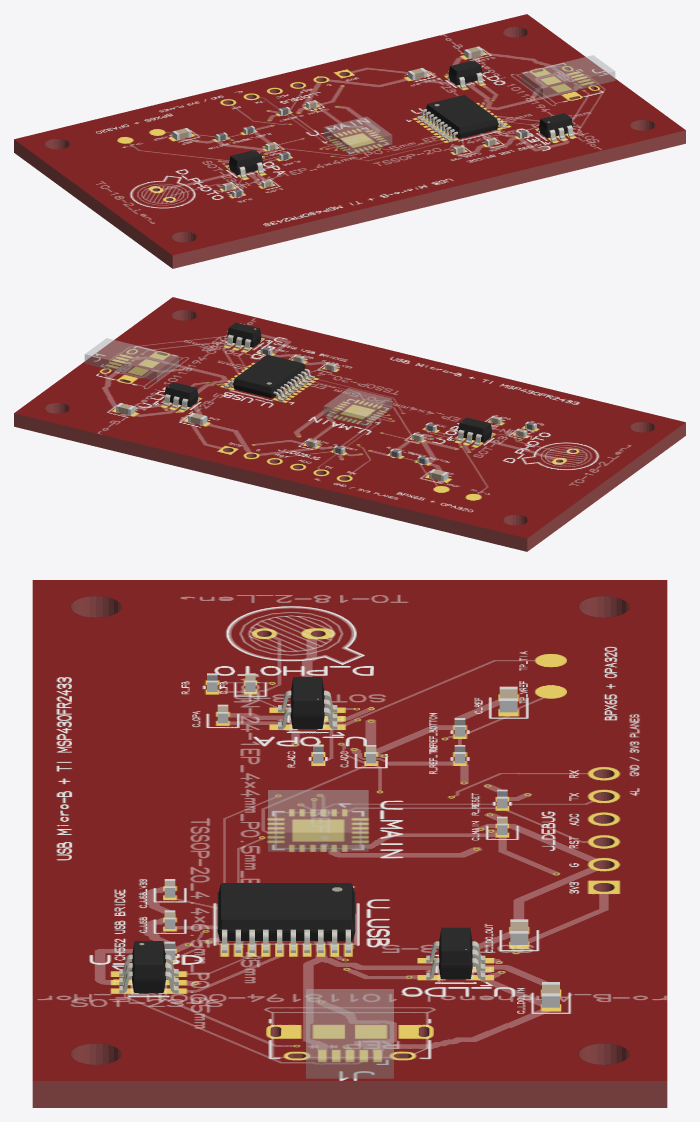
3 renders of one model, top to bottom at view 1: azimuth 30°, elevation 25°; view 2: azimuth 150°, elevation 25°; view 3: azimuth 270°, elevation 25°, orthographic. The views are drawn at different scales.
Parts seen in each view (by area): view 1: Box0, J1, U_USB, U_MAIN, U_ESD, U_LDO, U_OPA; view 2: Box0, J1, U_USB, U_MAIN, U_ESD, U_LDO, U_OPA; view 3: Box0, U_USB, J1, U_MAIN, U_ESD, U_LDO, U_OPA.
Boxes of the visible parts, x1,y1,x2,y2 form: Box0: [14, 14, 685, 268]; J1: [521, 55, 615, 98]; U_USB: [416, 95, 507, 141]; U_MAIN: [323, 116, 392, 154]; U_ESD: [537, 113, 574, 141]; U_LDO: [447, 60, 483, 88]; U_OPA: [227, 150, 264, 178]; Box0: [14, 297, 685, 551]; J1: [84, 338, 178, 381]; U_USB: [224, 354, 314, 401]; U_MAIN: [323, 388, 392, 426]; U_ESD: [226, 322, 262, 350]; U_LDO: [163, 382, 199, 410]; U_OPA: [456, 417, 493, 445]; Box0: [32, 580, 667, 1107]; U_USB: [217, 883, 355, 952]; J1: [306, 989, 393, 1078]; U_MAIN: [268, 790, 368, 851]; U_ESD: [119, 941, 178, 993]; U_LDO: [426, 927, 485, 979]; U_OPA: [278, 677, 337, 729].
Size of the model in its own units: 56 by 2.95 by 30.
Materials: 10 (2 with a texture image).
